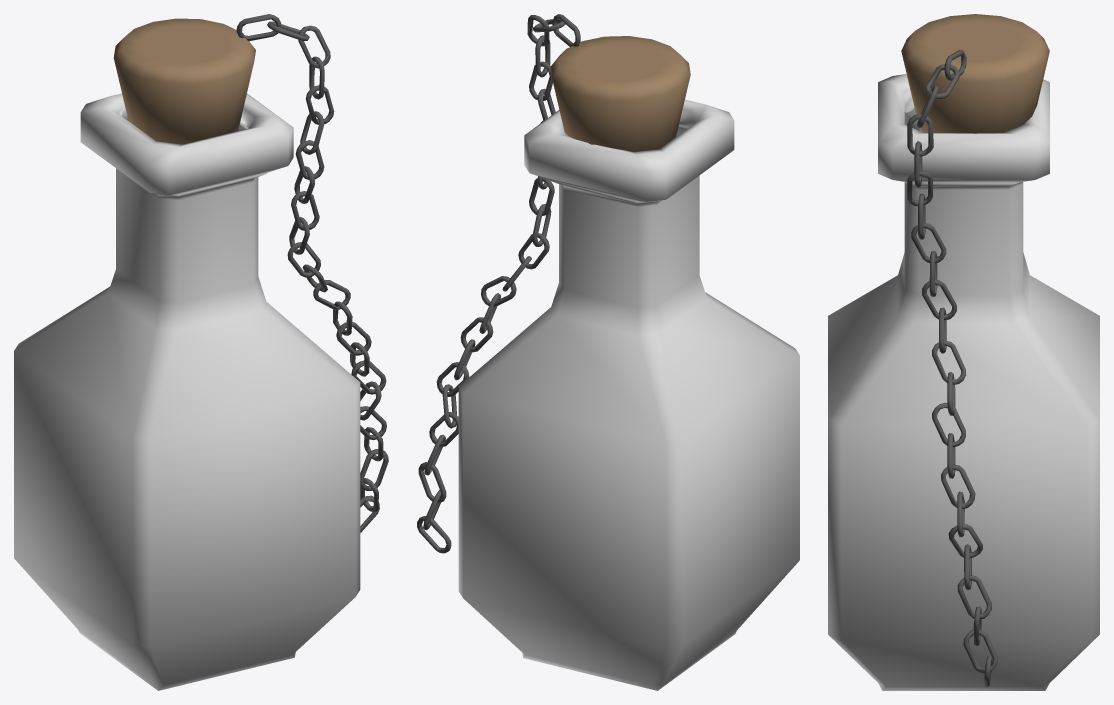
Rendered from potion blue.fbx.
The picture shows the model from 3 angles, left to right: view 1: azimuth 30°, elevation 25°; view 2: azimuth 150°, elevation 25°; view 3: azimuth 270°, elevation 25°; orthographic projection. The views are drawn at different scales.
Parts seen in each view (by area): view 1: Cube, Cylinder.002, Torus.002; view 2: Cube, Cylinder.002, Torus.002; view 3: Cube, Cylinder.002, Torus.002.
Boxes of the visible parts, left/top/right/bottom form: Cube: left=14, top=93, right=360, bottom=690; Cylinder.002: left=113, top=18, right=255, bottom=144; Torus.002: left=236, top=14, right=388, bottom=532; Cube: left=458, top=99, right=799, bottom=690; Cylinder.002: left=550, top=36, right=690, bottom=151; Torus.002: left=417, top=14, right=580, bottom=553; Cube: left=828, top=74, right=1099, bottom=690; Cylinder.002: left=901, top=14, right=1049, bottom=133; Torus.002: left=907, top=49, right=997, bottom=687.
Bounding box in the file's own units: 214 × 394 × 152.
